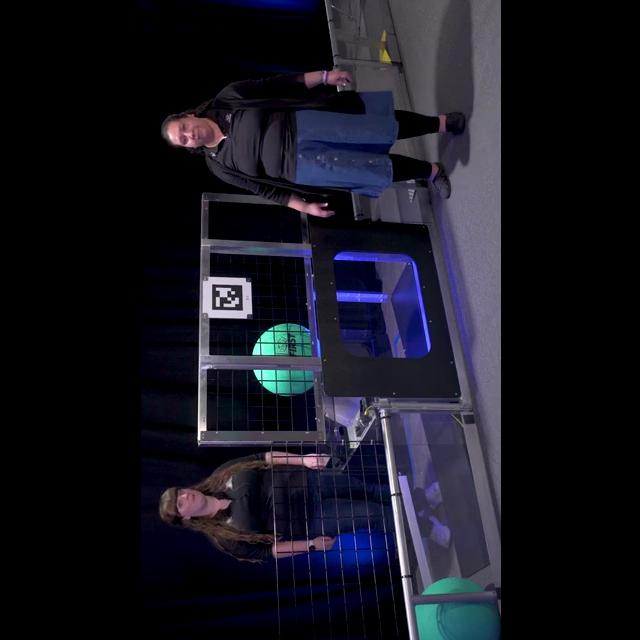ALGAE: (412, 576, 498, 640), (250, 323, 314, 397)
